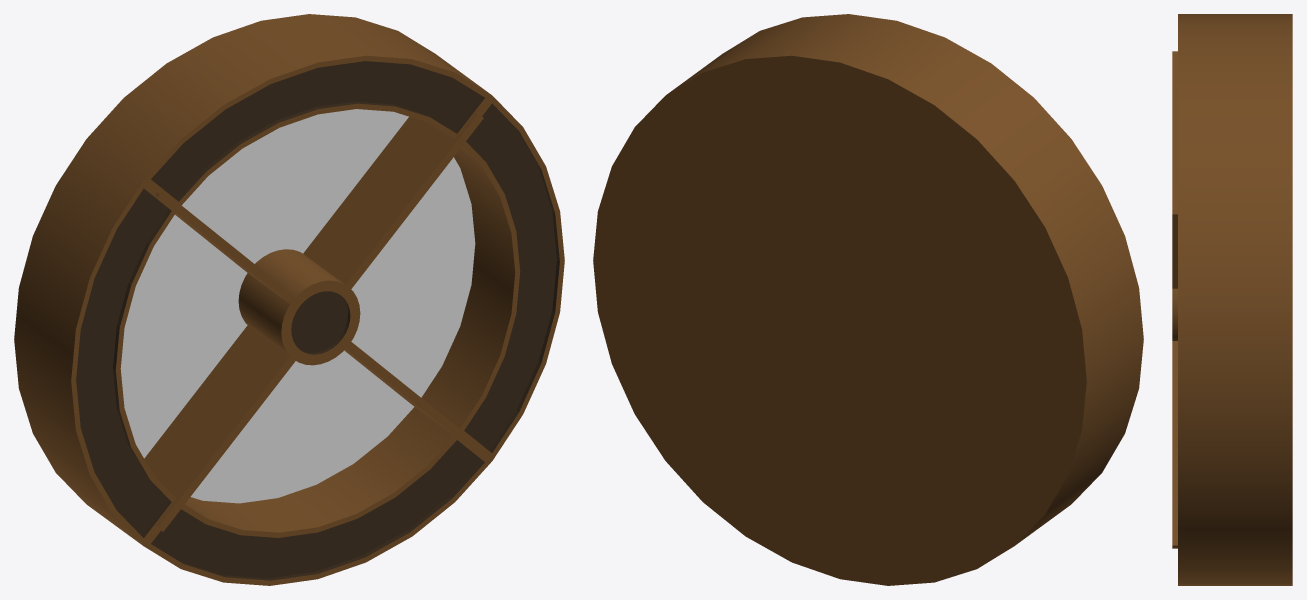
File: wheel.glb
3 renders of one model, left to right at view 1: azimuth 30°, elevation 25°; view 2: azimuth 150°, elevation 25°; view 3: azimuth 270°, elevation 25°, orthographic.
Visible parts, largest first — view 1: base, static_gimbal, gimbal; view 2: base; view 3: base, static_gimbal.
Boxes of the visible parts, box(x1,y1,x2,y2) form: base: box(14, 14, 564, 585); static_gimbal: box(155, 112, 483, 531); gimbal: box(144, 116, 435, 482); base: box(593, 14, 1143, 585); base: box(1178, 14, 1292, 585); static_gimbal: box(1172, 51, 1177, 548).
Bounding box in the file's own units: 2.5 × 2.5 × 0.525.
